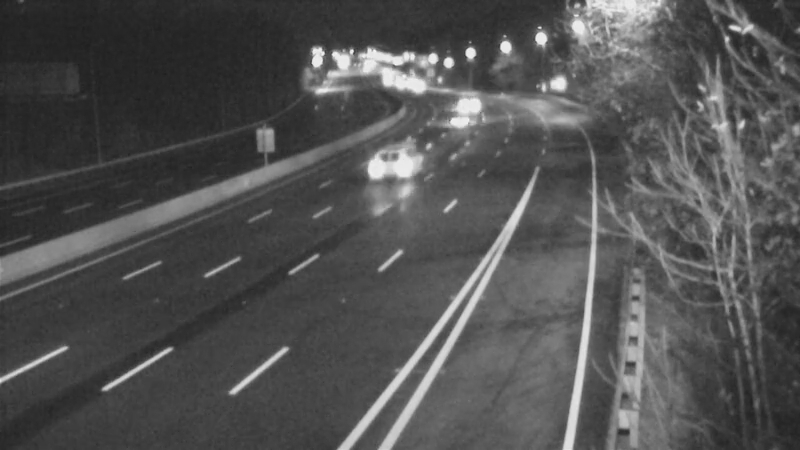vehicle: (361, 127, 441, 207), (437, 79, 487, 129), (433, 98, 483, 148)
